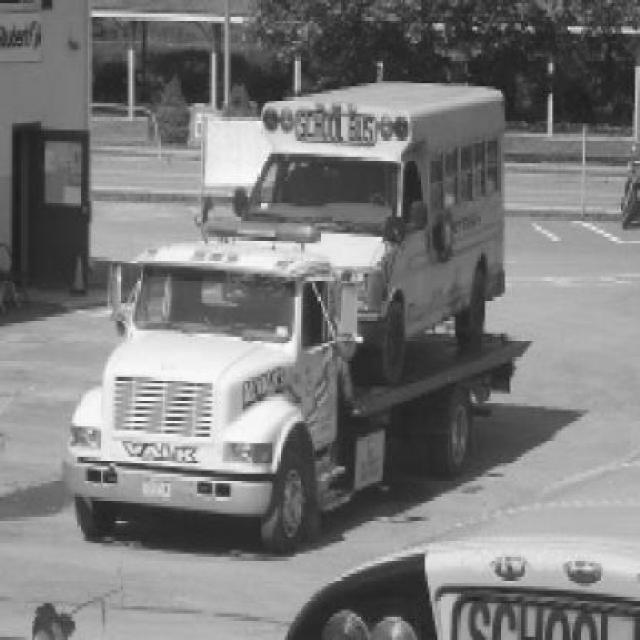Bus- Small: (245, 82, 507, 386)
Tow Truck: (66, 211, 536, 557)
